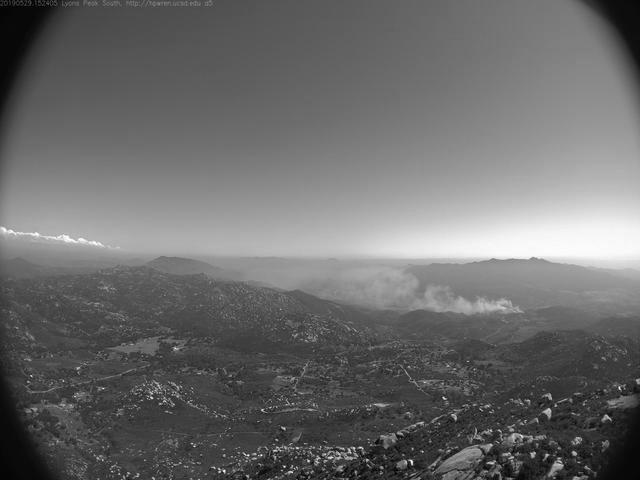smoke: (256, 257, 524, 319)
